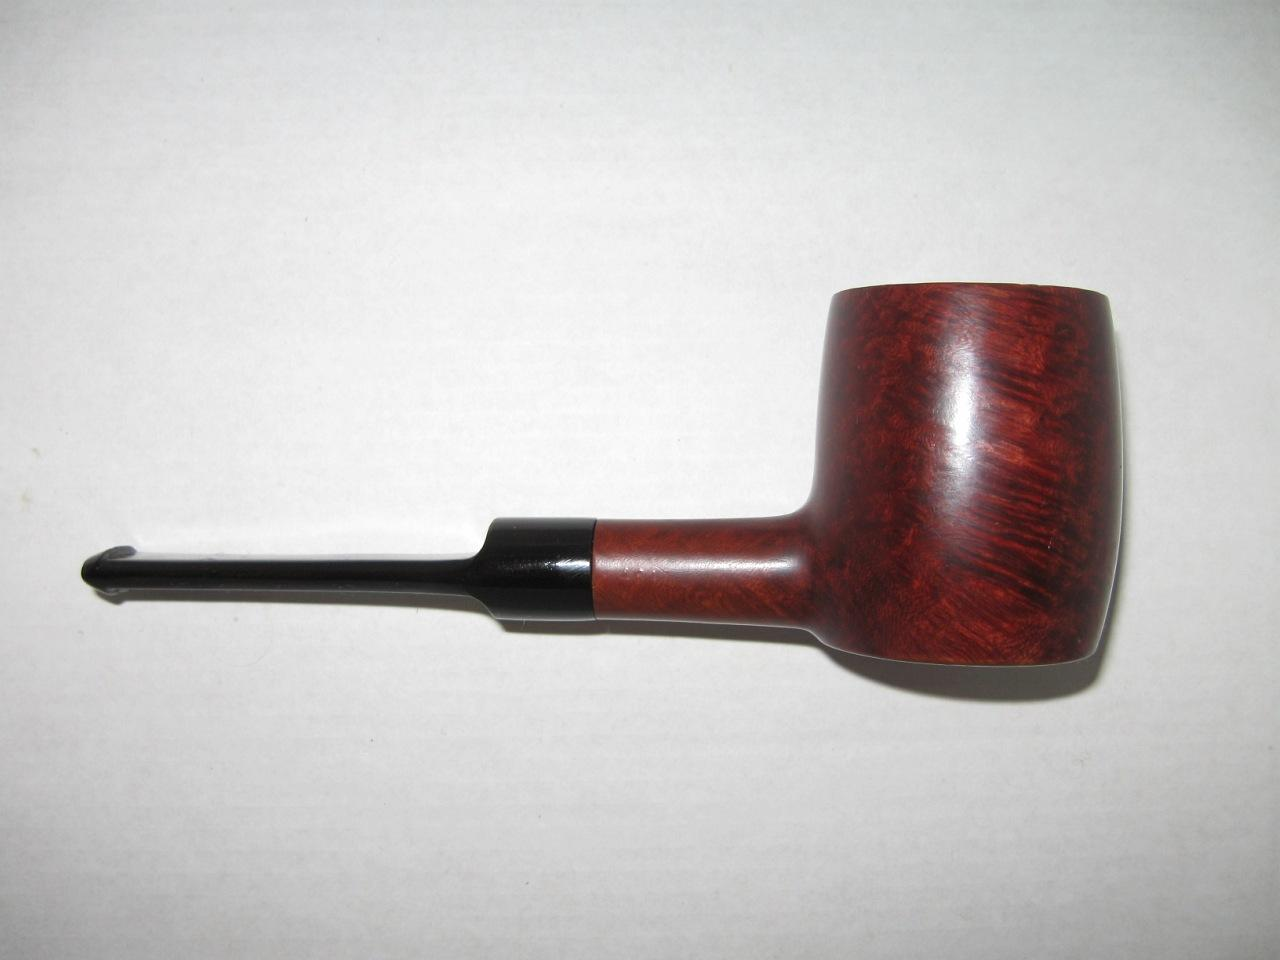trubka: (82, 284, 1122, 665)
